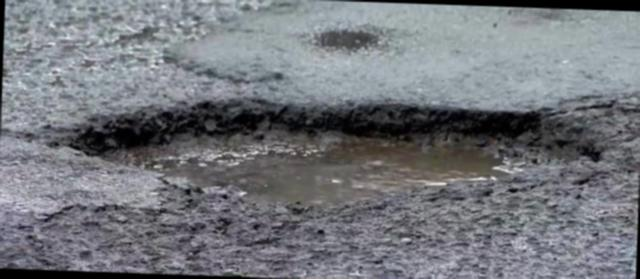pothole: (48, 69, 613, 267)
